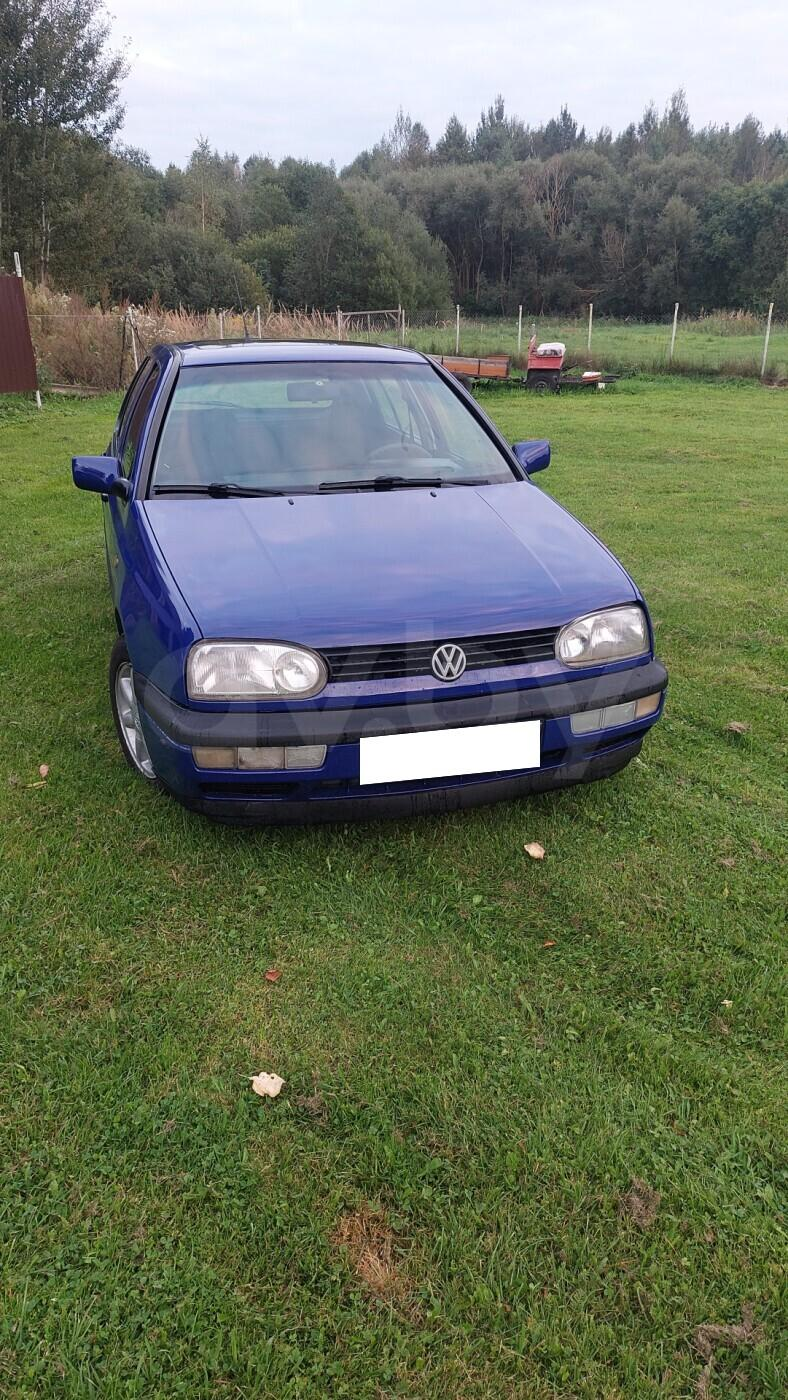Golf_1991-2000: (38, 336, 663, 808)
